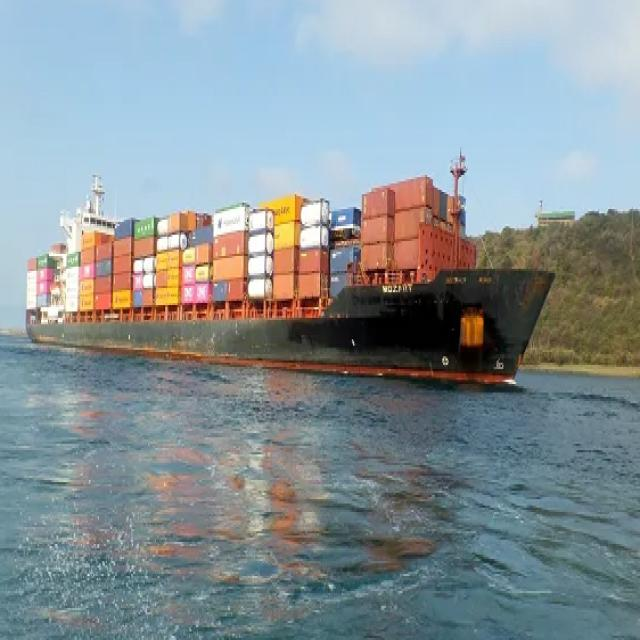cargoship: (18, 146, 544, 420)
